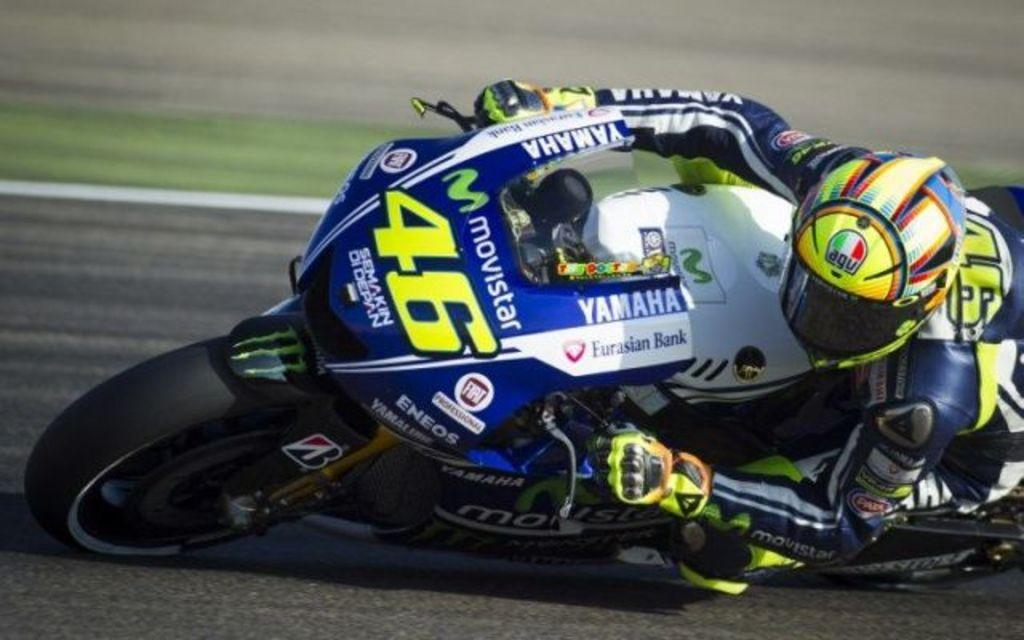Motorcycle: (26, 98, 1022, 592)
